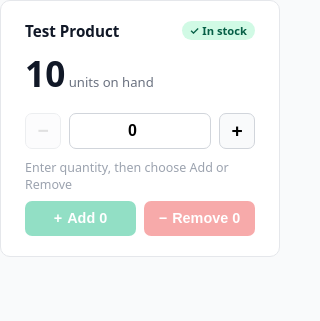
Test: Part 3 — successful save › updates the displayed stock count to the server value
Type "5" into the number field with class "sw__input" at (140, 131), box [69,113,211,149]
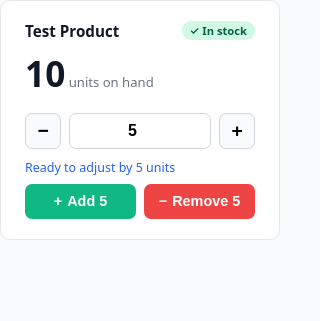
Click the button with class "sw__btn--add" at (80, 201), box [25,184,136,219]
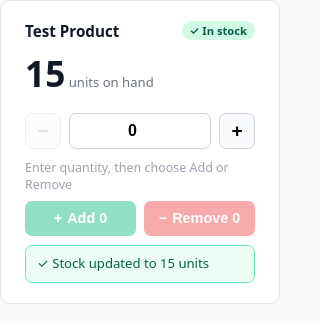
Check: the text with class "sw__count-num" reads "15", box [25,49,65,97]
